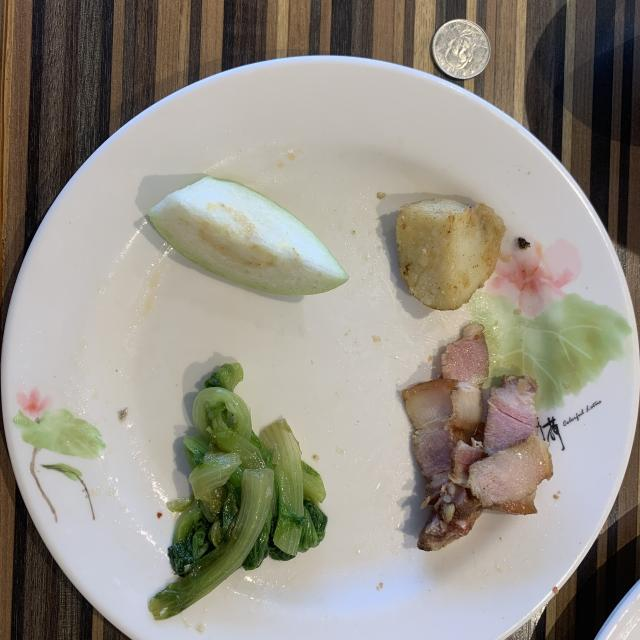coin: (432, 19, 490, 79)
fried potato: (396, 199, 505, 310)
grilled pork: (402, 322, 552, 551)
guava -sliced-: (149, 176, 349, 295)
mustard greens: (149, 362, 328, 619)
